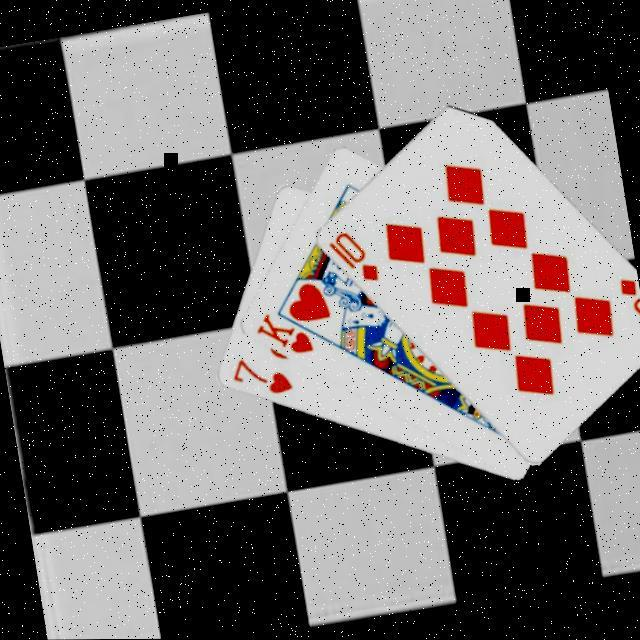10D: (321, 227, 382, 294), (613, 276, 640, 340)
7H: (223, 350, 296, 408)
KH: (248, 306, 316, 366)
